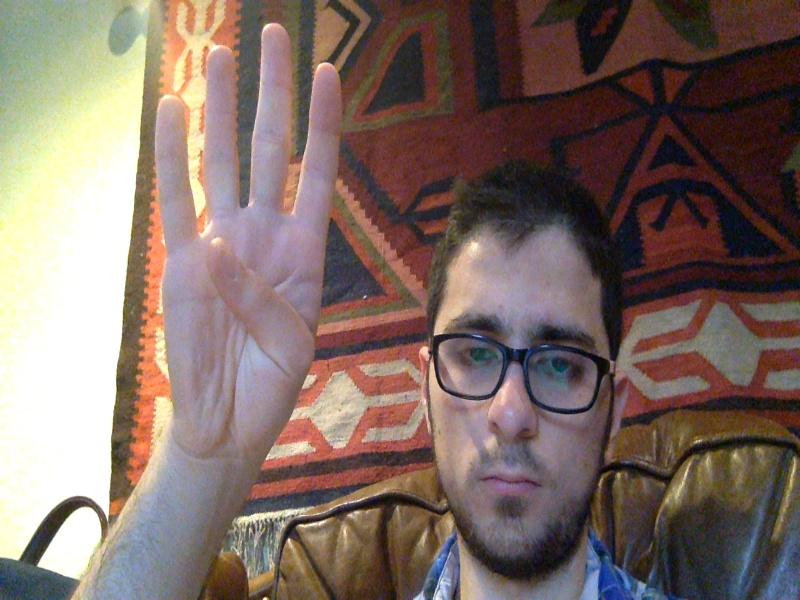4-hand: (154, 21, 341, 463)
